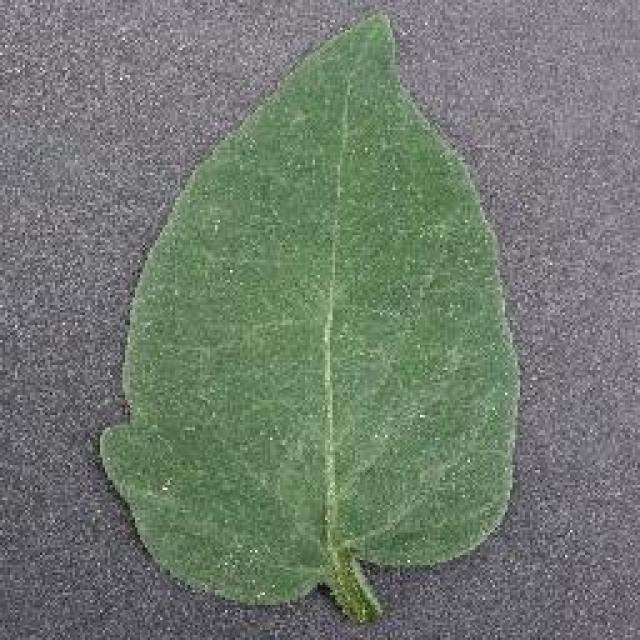Tomato healthy leaf: (111, 10, 524, 602)
